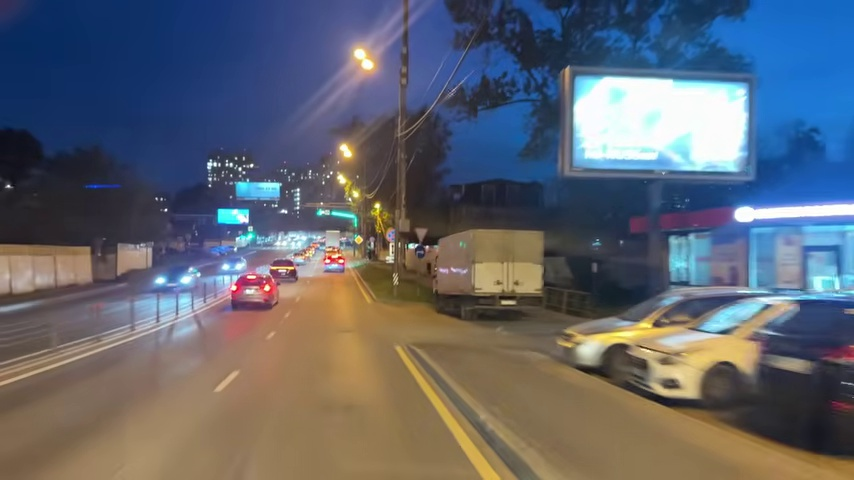acesa: (352, 46, 377, 73), (338, 142, 357, 162)
